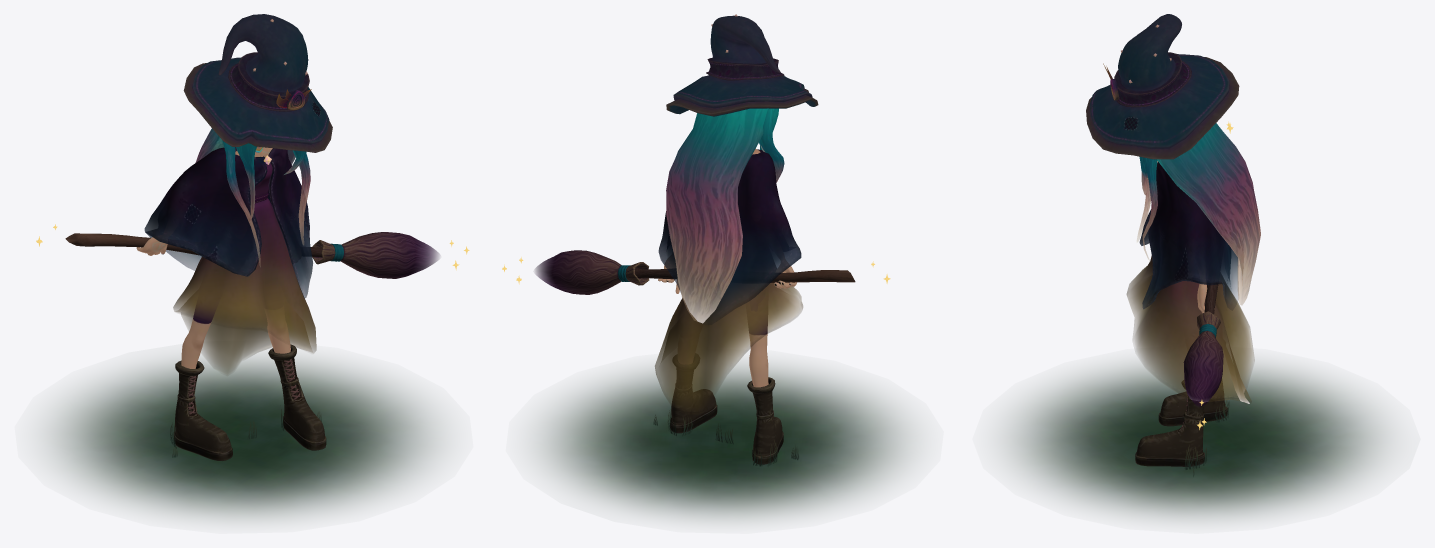
3 renders of one model, left to right at view 1: azimuth 30°, elevation 25°; view 2: azimuth 150°, elevation 25°; view 3: azimuth 270°, elevation 25°, orthographic. The views are drawn at different scales.
Visible parts, largest first — view 1: polySurface10_ground2_0, Body_Clothing_0, Hat_Hat1_0, Body_Body1_0, Broom_LP1_Broom_LP_0; view 2: polySurface10_ground2_0, Body_Clothing_0, Body_Body1_0, Hat_Hat1_0, Broom_LP1_Broom_LP_0; view 3: polySurface10_ground2_0, Body_Clothing_0, Hat_Hat1_0, Body_Body1_0, Broom_LP1_Broom_LP_0.
Part boxes in pixels (bbox=[...]): polySurface10_ground2_0: bbox=[50, 356, 437, 518]; Body_Clothing_0: bbox=[144, 147, 326, 460]; Hat_Hat1_0: bbox=[183, 14, 332, 152]; Body_Body1_0: bbox=[136, 128, 310, 368]; Broom_LP1_Broom_LP_0: bbox=[65, 232, 439, 278]; polySurface10_ground2_0: bbox=[540, 364, 909, 519]; Body_Clothing_0: bbox=[655, 149, 802, 464]; Body_Body1_0: bbox=[658, 108, 796, 387]; Hat_Hat1_0: bbox=[666, 14, 818, 116]; Broom_LP1_Broom_LP_0: bbox=[535, 250, 855, 294]; polySurface10_ground2_0: bbox=[1008, 364, 1384, 518]; Body_Clothing_0: bbox=[1126, 162, 1254, 466]; Hat_Hat1_0: bbox=[1086, 14, 1239, 159]; Body_Body1_0: bbox=[1137, 123, 1260, 313]; Broom_LP1_Broom_LP_0: bbox=[1183, 276, 1223, 407].
Bounding box in the file's own units: 585 × 567 × 545.
Materials: 6 (5 with a texture image).
